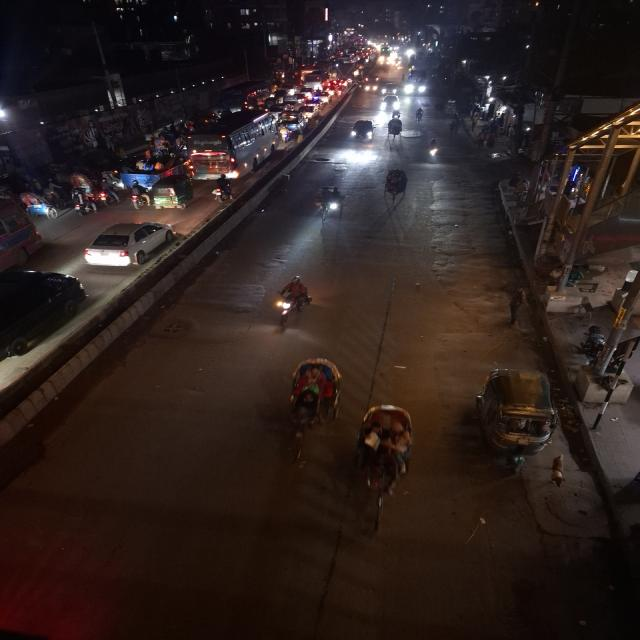bus: (185, 110, 283, 178), (218, 79, 266, 107), (404, 71, 432, 99), (303, 70, 325, 90)
car: (81, 213, 178, 275), (344, 116, 382, 151), (373, 93, 407, 115), (285, 114, 311, 132), (298, 87, 316, 103), (314, 90, 332, 104), (301, 105, 318, 119)
cng: (480, 362, 558, 488), (152, 176, 194, 211)
motorcycle: (270, 272, 315, 337), (121, 179, 154, 212), (67, 184, 93, 215), (94, 177, 118, 207), (213, 175, 234, 205), (424, 134, 442, 166), (382, 80, 400, 96), (413, 107, 426, 128), (279, 126, 291, 144)
pedestrian: (504, 282, 531, 325), (433, 101, 442, 119), (448, 120, 456, 138), (454, 118, 462, 134), (441, 101, 446, 119)
pickup_van: (302, 182, 355, 227), (120, 147, 190, 180)
rickshaw: (351, 406, 417, 536), (282, 355, 349, 477), (18, 184, 65, 225), (377, 165, 415, 211), (385, 116, 408, 144)
truck: (364, 75, 382, 96)
